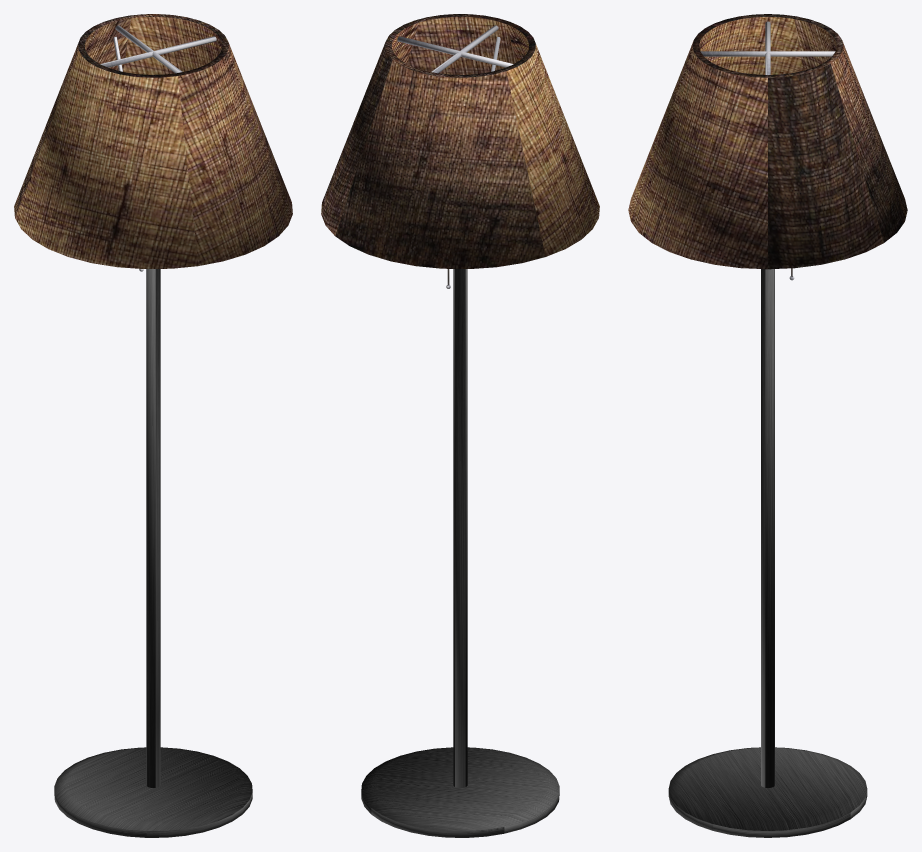
Rendered from lamp.glb.
3 renders of one model, left to right at view 1: azimuth 30°, elevation 25°; view 2: azimuth 150°, elevation 25°; view 3: azimuth 270°, elevation 25°, orthographic.
Parts seen in each view (by area): view 1: Cylinder.002, Cylinder, Cylinder.001, Cylinder.004; view 2: Cylinder.002, Cylinder, Cylinder.001, Cylinder.004; view 3: Cylinder.002, Cylinder, Cylinder.001, Cylinder.005.
Part boxes in pixels (x1,y1,x2,y2): Cylinder.002: (14,14,292,268); Cylinder: (54,747,252,837); Cylinder.001: (146,269,160,787); Cylinder.004: (100,36,216,67); Cylinder.002: (321,14,599,268); Cylinder: (361,747,559,837); Cylinder.001: (453,269,467,787); Cylinder.004: (397,36,513,67); Cylinder.002: (628,14,907,269); Cylinder: (668,747,867,837); Cylinder.001: (761,269,774,787); Cylinder.005: (700,51,835,56).
Bounding box in the file's own units: 2 × 5.92 × 2.
Materials: 12 (12 with a texture image).
